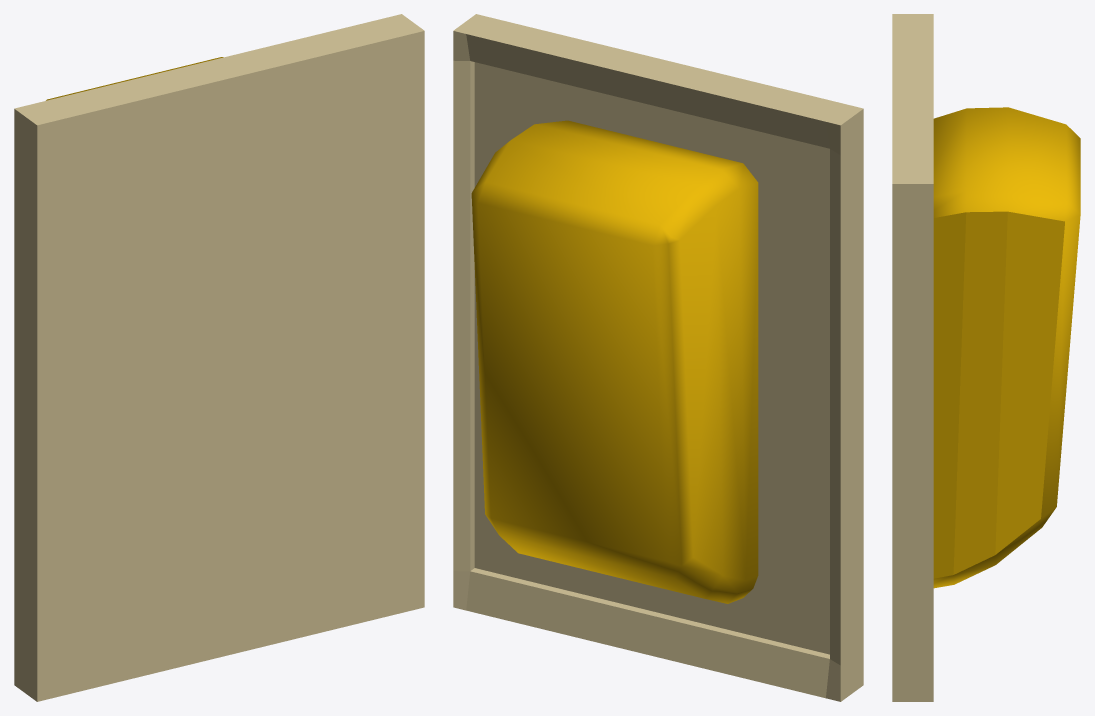
The model's file is masło.fbx.
The picture shows the model from 3 angles, left to right: view 1: azimuth 30°, elevation 25°; view 2: azimuth 150°, elevation 25°; view 3: azimuth 270°, elevation 25°; orthographic projection. The views are drawn at different scales.
Visible parts, largest first — view 1: Cube.020; view 2: Cube.020; view 3: Cube.020.
Boxes of the visible parts, <box> form: Cube.020: <box>14,14,424,701</box>; Cube.020: <box>453,14,863,701</box>; Cube.020: <box>892,14,1080,701</box>.
Size of the model in its own units: 141 by 200 by 65.85.
